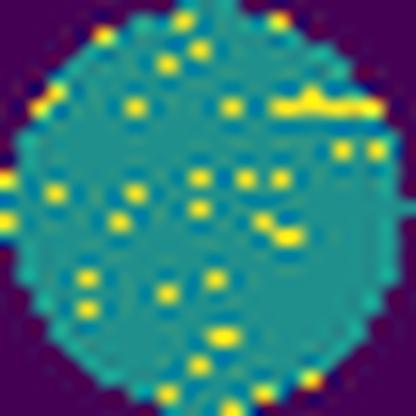Scratch: (267, 82, 385, 122)
